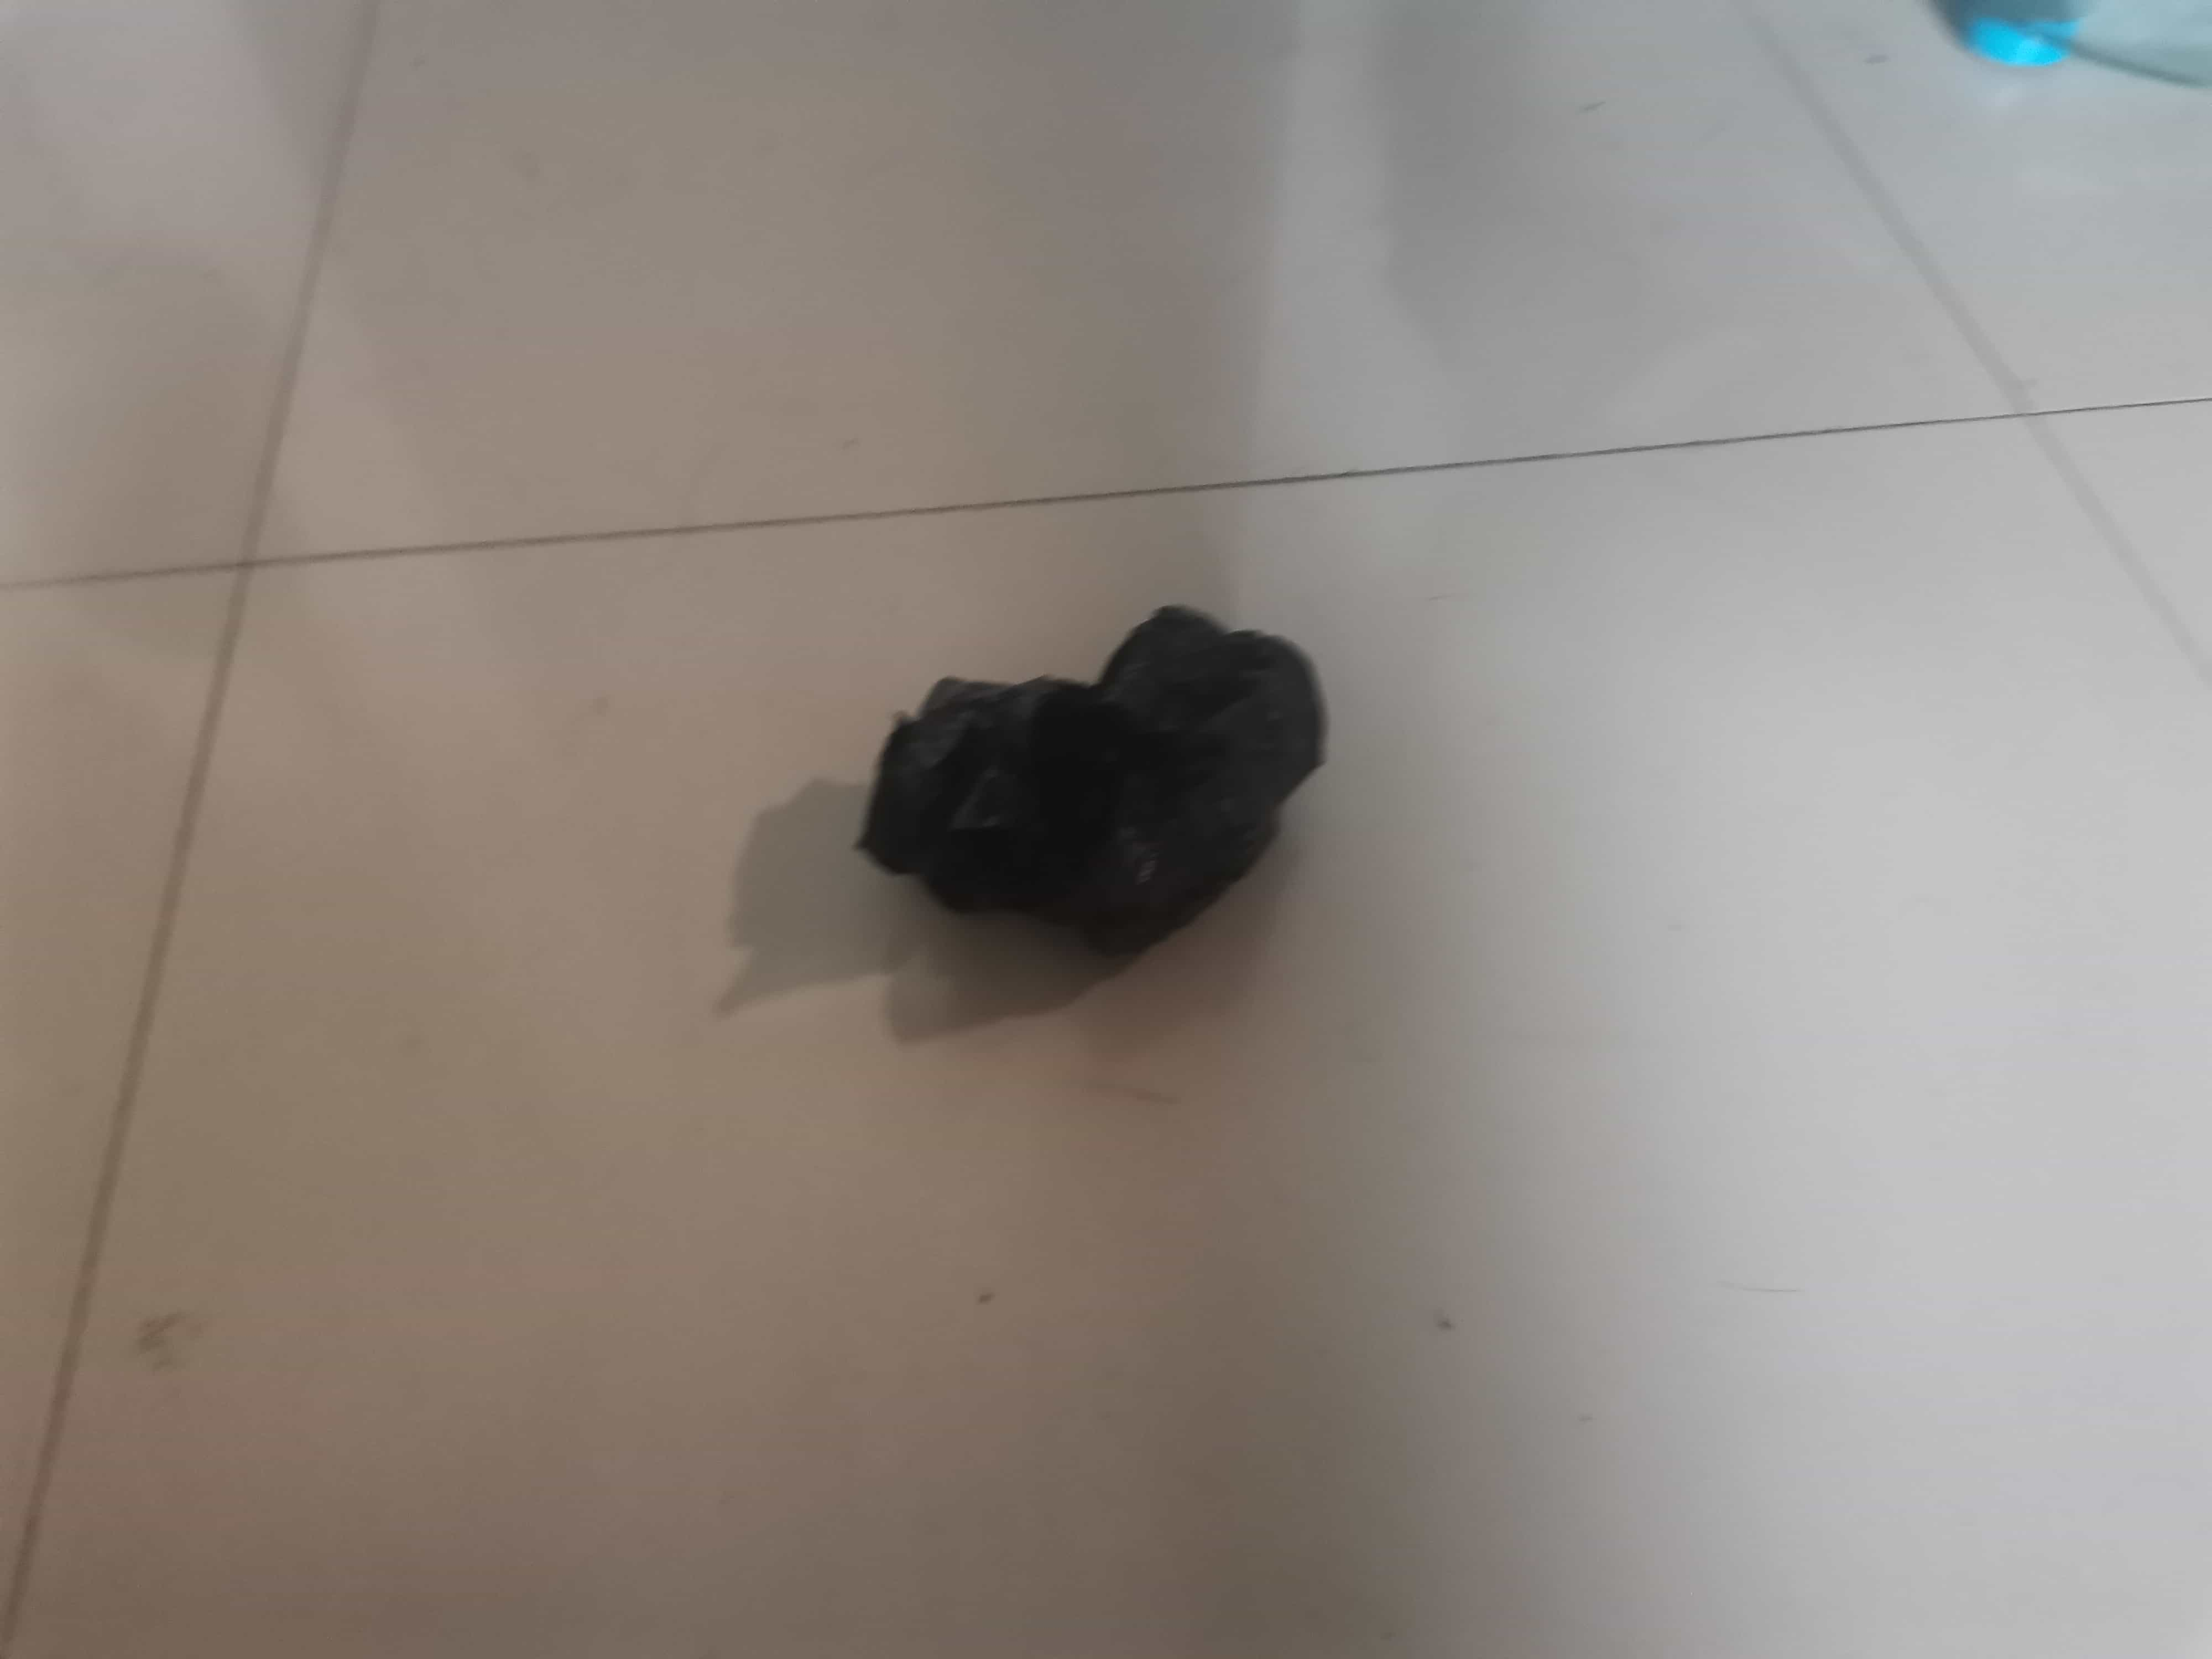plastic_bag: (841, 592, 1348, 967)
